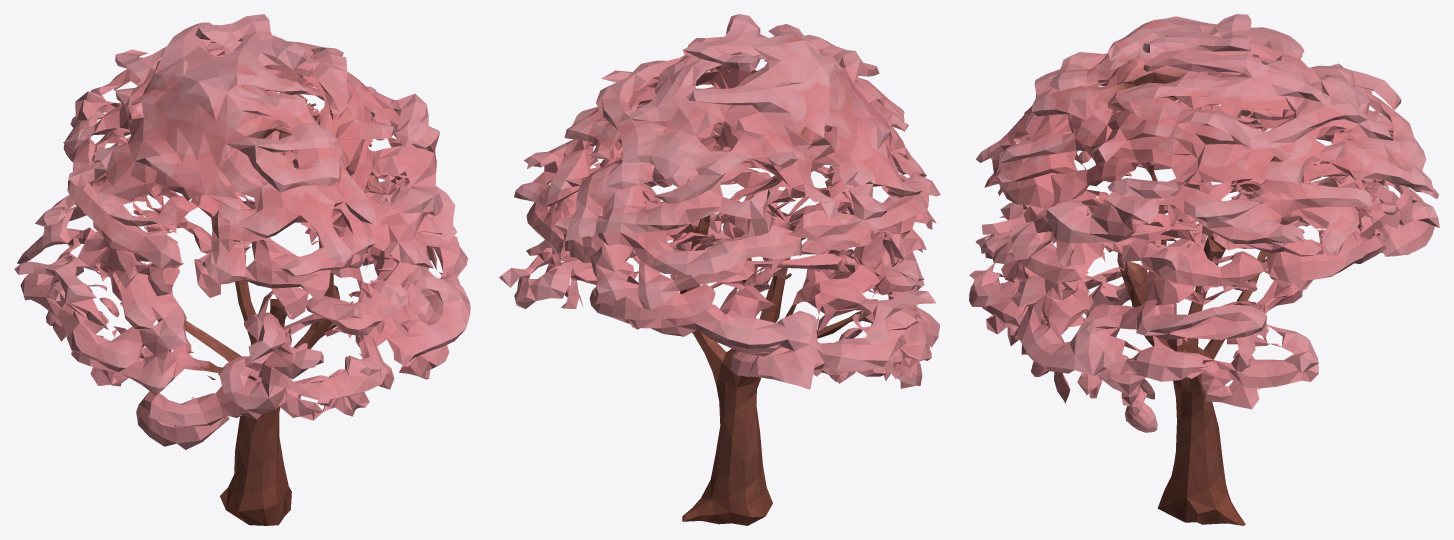
The model's file is pinktree1.obj.
3 views of the same model, side by side, from view 1: azimuth 30°, elevation 25°; view 2: azimuth 150°, elevation 25°; view 3: azimuth 270°, elevation 25° (orthographic).
Parts seen in each view (by area): view 1: tripo_node_d3f72900-14b9-4e37-bffb-276ed3a4e401; view 2: tripo_node_d3f72900-14b9-4e37-bffb-276ed3a4e401; view 3: tripo_node_d3f72900-14b9-4e37-bffb-276ed3a4e401.
Boxes of the visible parts, <box> form: tripo_node_d3f72900-14b9-4e37-bffb-276ed3a4e401: <box>14,14,470,525</box>; tripo_node_d3f72900-14b9-4e37-bffb-276ed3a4e401: <box>499,14,940,525</box>; tripo_node_d3f72900-14b9-4e37-bffb-276ed3a4e401: <box>969,14,1439,525</box>.
Size of the model in its own units: 0.8376 by 0.9901 by 0.8762.
